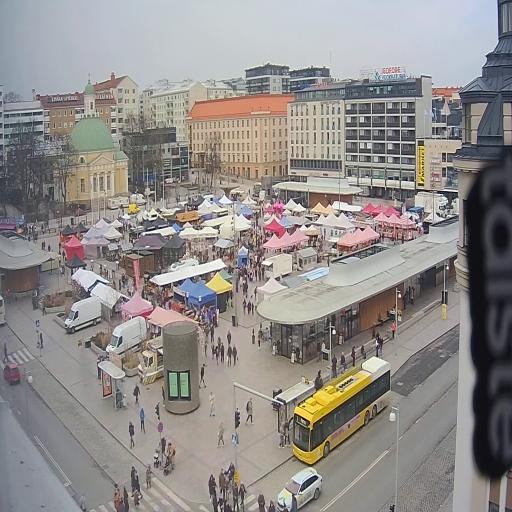bus: (284, 344, 400, 470), (0, 291, 9, 328)
car: (274, 460, 327, 512), (2, 359, 24, 390)
delivery: (102, 312, 148, 370), (62, 291, 104, 334), (410, 190, 447, 220), (130, 189, 149, 207), (126, 204, 142, 218)
